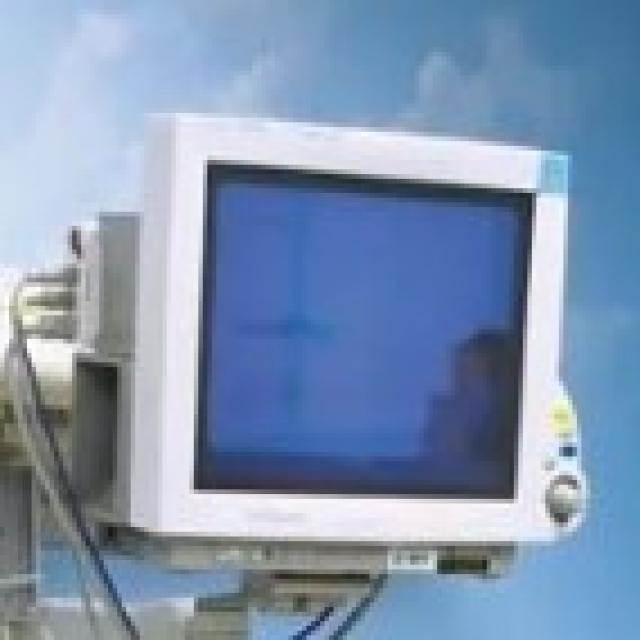Monitor: (0, 89, 619, 632)
